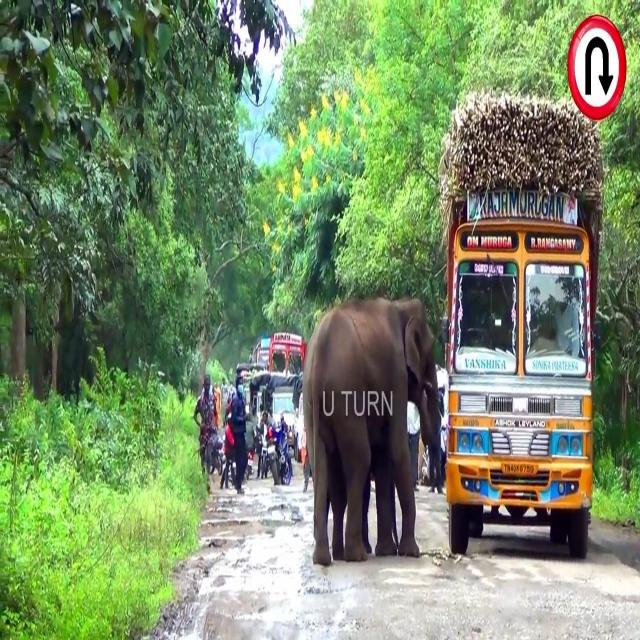Elephant: (302, 296, 440, 566)
